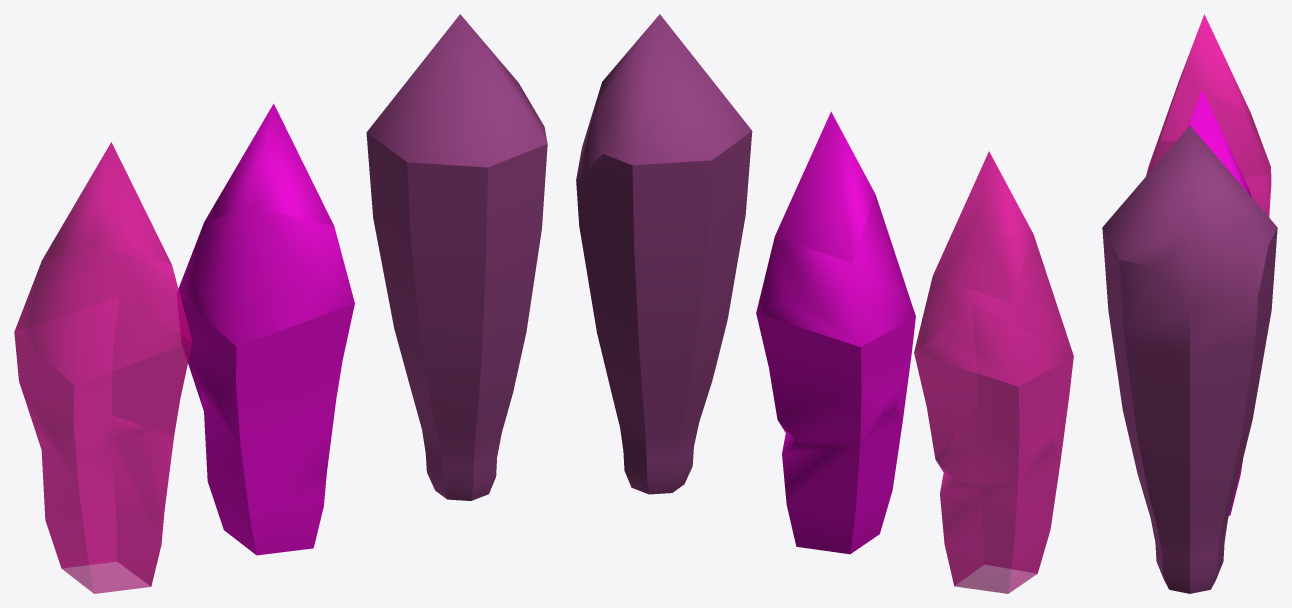
The model's file is _tones.fbx.
3 views of the same model, side by side, from view 1: azimuth 30°, elevation 25°; view 2: azimuth 150°, elevation 25°; view 3: azimuth 270°, elevation 25° (orthographic). The views are drawn at different scales.
Visible parts, largest first — view 1: pCylinder18, pCube2, pCube1; view 2: pCylinder18, pCube1, pCube2; view 3: pCylinder18, pCube2, pCube1.
Boxes of the visible parts, x1,y1,x2,y2 form: pCylinder18: (366,14,547,500); pCube2: (14,142,192,593); pCube1: (178,103,354,555); pCylinder18: (576,14,752,494); pCube1: (756,111,915,554); pCube2: (914,151,1073,593); pCylinder18: (1102,126,1277,593); pCube2: (1146,14,1271,217); pCube1: (1187,89,1251,515).
Size of the model in its own units: 5.96 by 5.73 by 1.95.
